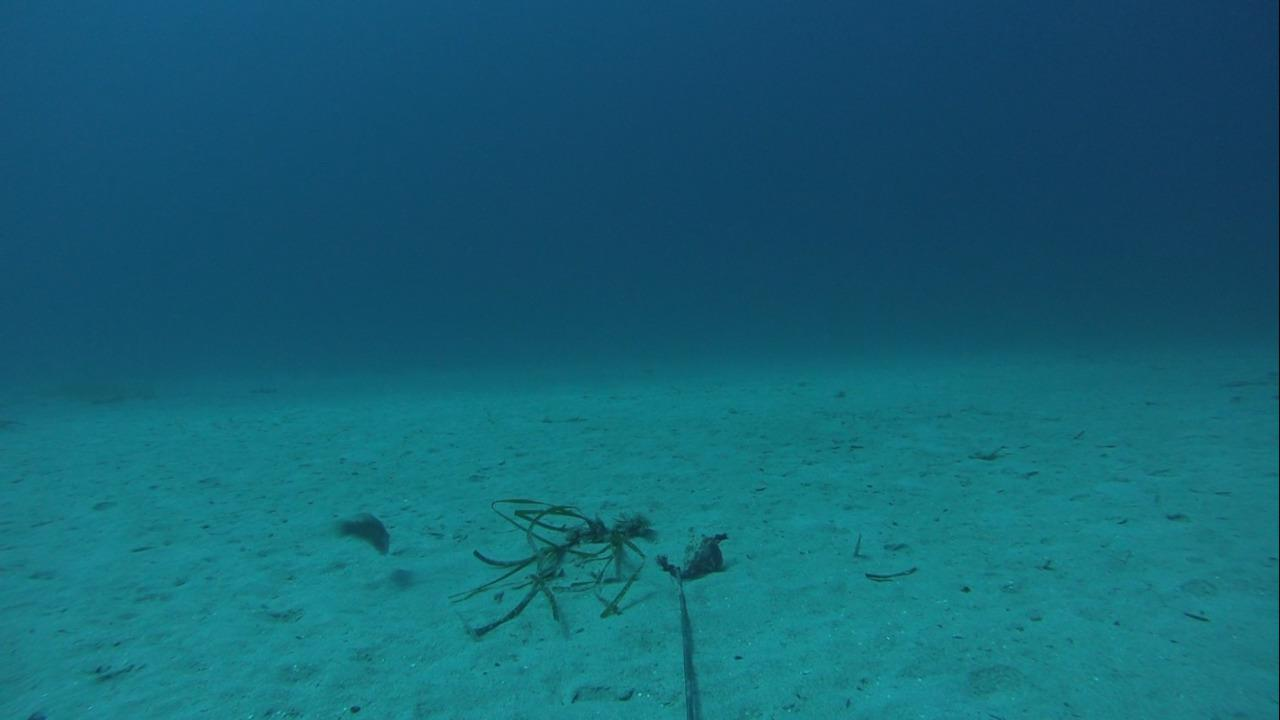raor: (332, 503, 397, 562)
